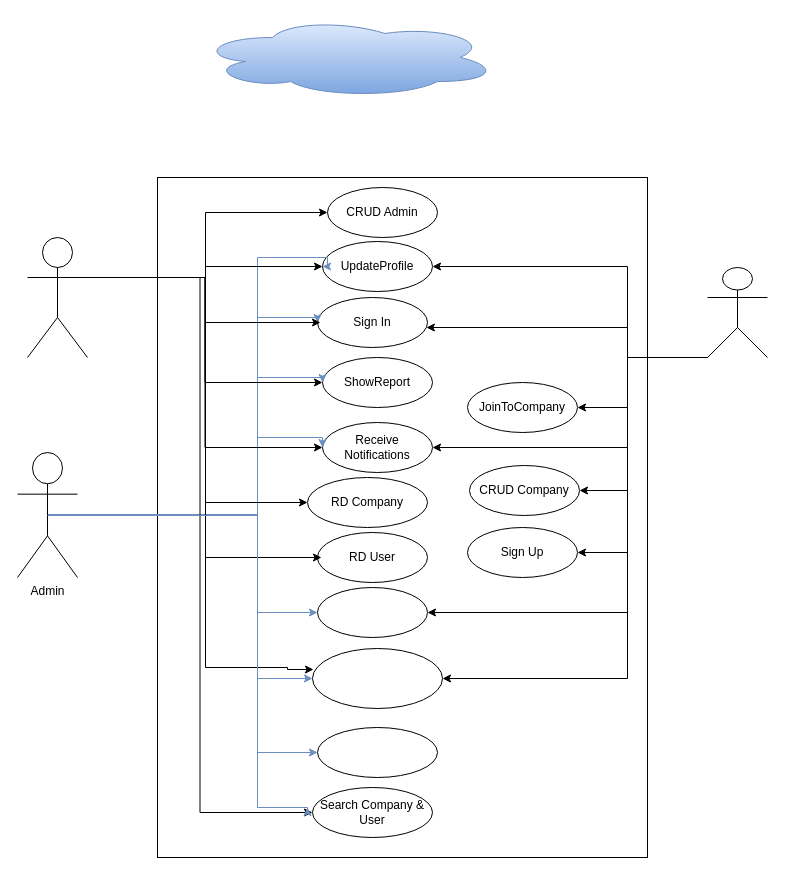
Some shapes in this 785 by 875 pixel diagram are drawn without their labels. Each missing label, with the centre of its shape:
Add Report: [372,612]
Invite User: [377,678]
SAdmin: [57,297]
submit Delete Company & User: [377,752]
Time Managment: [347,57]
User: [737,312]
